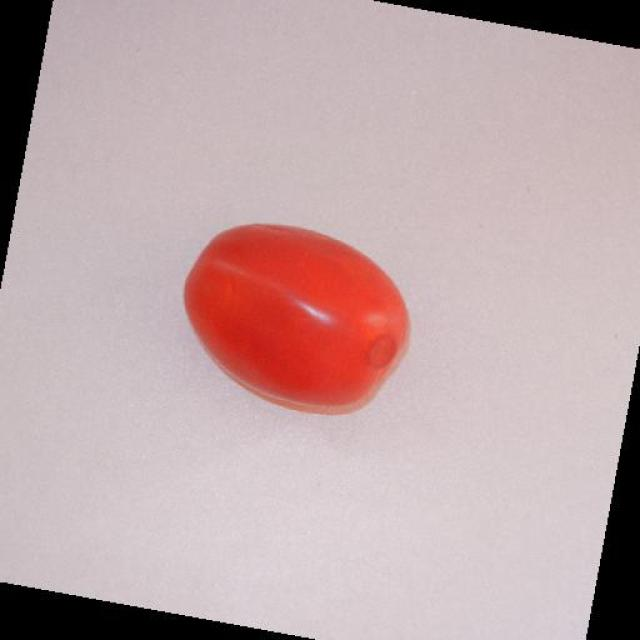Stale_tomato: (186, 193, 430, 444)
